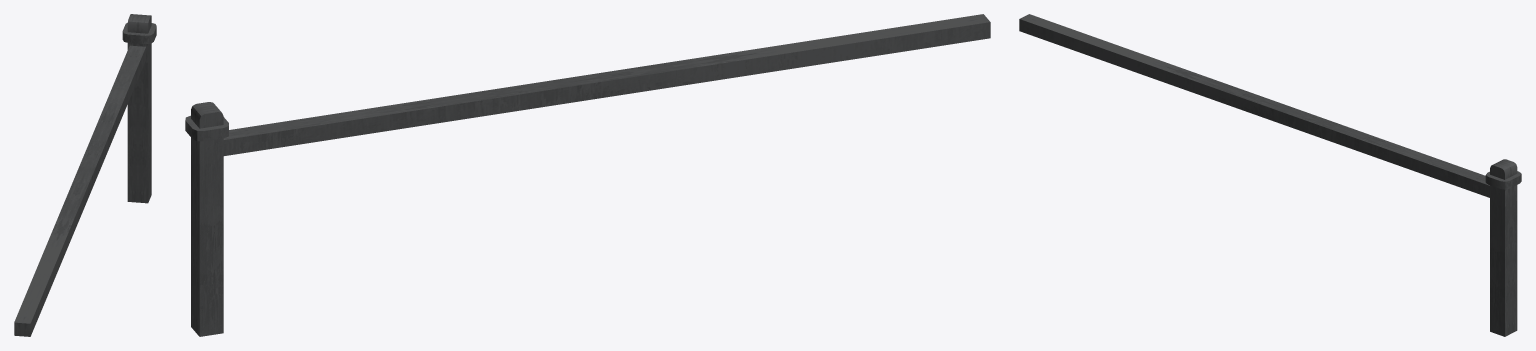
3 renders of one model, left to right at view 1: azimuth 30°, elevation 25°; view 2: azimuth 150°, elevation 25°; view 3: azimuth 270°, elevation 25°, orthographic. The views are drawn at different scales.
Parts seen in each view (by area): view 1: Cube042_metal3_0; view 2: Cube042_metal3_0; view 3: Cube042_metal3_0.
Part boxes in pixels (<box>): Cube042_metal3_0: <box>14,14,156,336</box>; Cube042_metal3_0: <box>185,14,990,336</box>; Cube042_metal3_0: <box>1019,14,1521,336</box>.
Bounding box in the file's own units: 2.21 × 0.96 × 2.61.
1 material, 1 textured.
